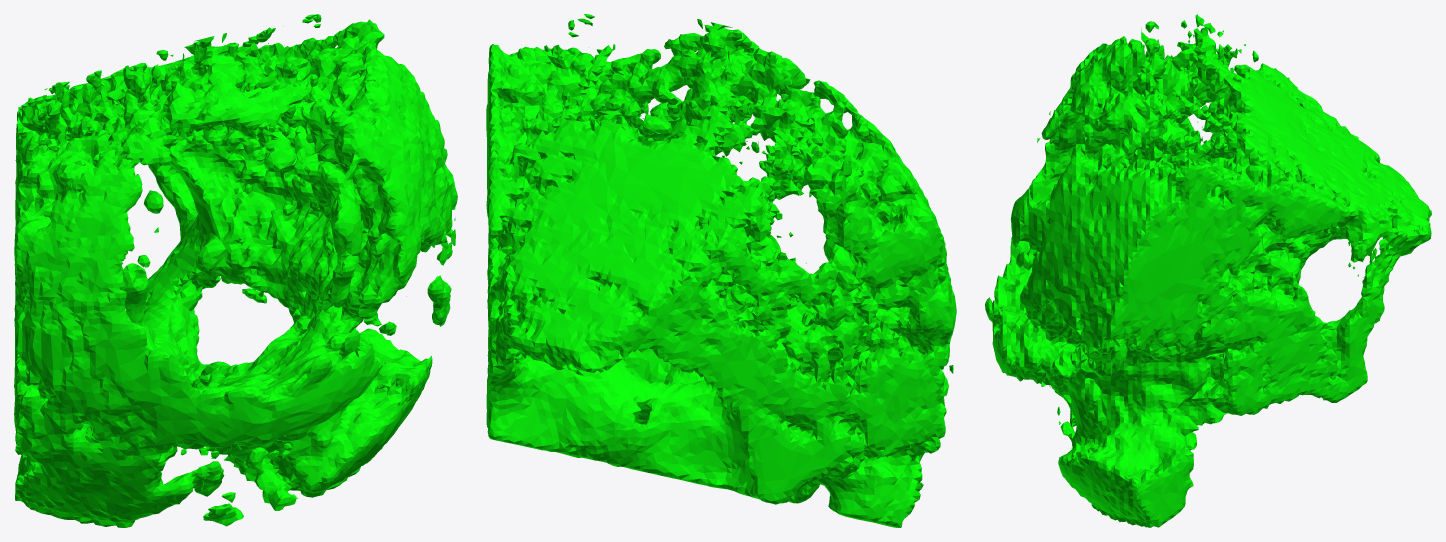
The model's file is B939XXXX-1_base_2.obj.
The picture shows the model from 3 angles, left to right: view 1: azimuth 30°, elevation 25°; view 2: azimuth 150°, elevation 25°; view 3: azimuth 270°, elevation 25°; orthographic projection. The views are drawn at different scales.
Parts seen in each view (by area): view 1: 2_base; view 2: 2_base; view 3: 2_base.
Part boxes in pixels (x1,y1,x2,y2): 2_base: [14, 14, 457, 527]; 2_base: [486, 14, 956, 527]; 2_base: [985, 14, 1431, 527].
Bounding box in the file's own units: 219 × 220 × 206.
